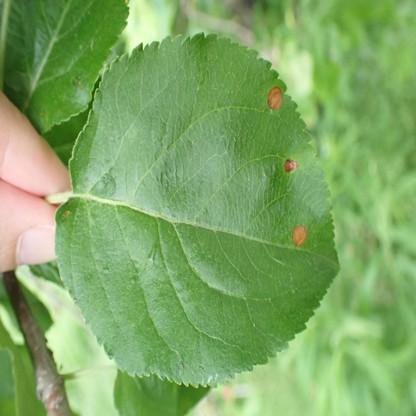frogeye_leaf_spot: (267, 86, 283, 109), (293, 225, 307, 246), (284, 158, 298, 172), (65, 210, 70, 216)
